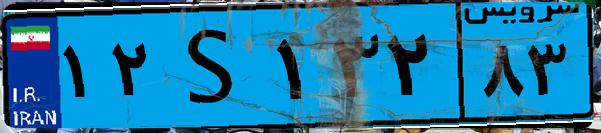1: (270, 28, 330, 110), (57, 26, 110, 100)
2: (385, 28, 445, 110), (110, 28, 158, 98)
3: (330, 28, 385, 110), (525, 38, 570, 115)
8: (475, 38, 525, 113)
S: (158, 12, 270, 120)
